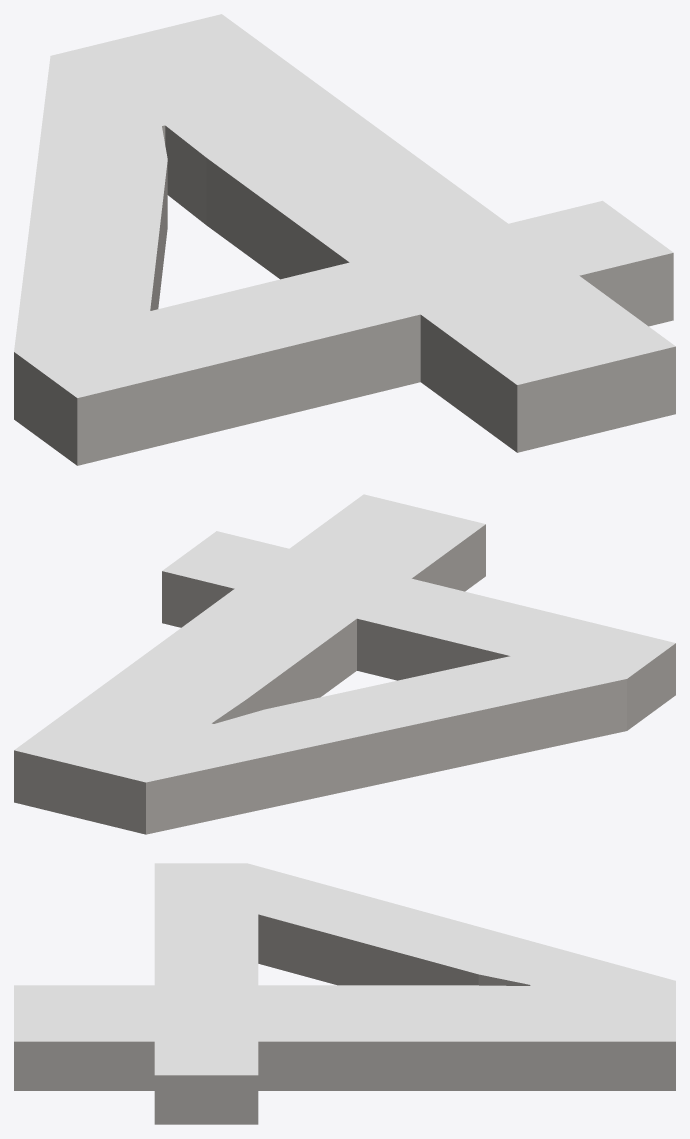
File: shuzi04.FBX
The picture shows the model from 3 angles, top to bottom: view 1: azimuth 30°, elevation 25°; view 2: azimuth 150°, elevation 25°; view 3: azimuth 270°, elevation 25°; orthographic projection. The views are drawn at different scales.
Visible parts, largest first — view 1: shuzi04; view 2: shuzi04; view 3: shuzi04.
Part boxes in pixels (x1=…): shuzi04: x1=14, y1=14, x2=675, y2=465; shuzi04: x1=14, y1=494, x2=675, y2=834; shuzi04: x1=14, y1=863, x2=675, y2=1124.
Bounding box in the file's own units: 82.51 × 8.95 × 109.
